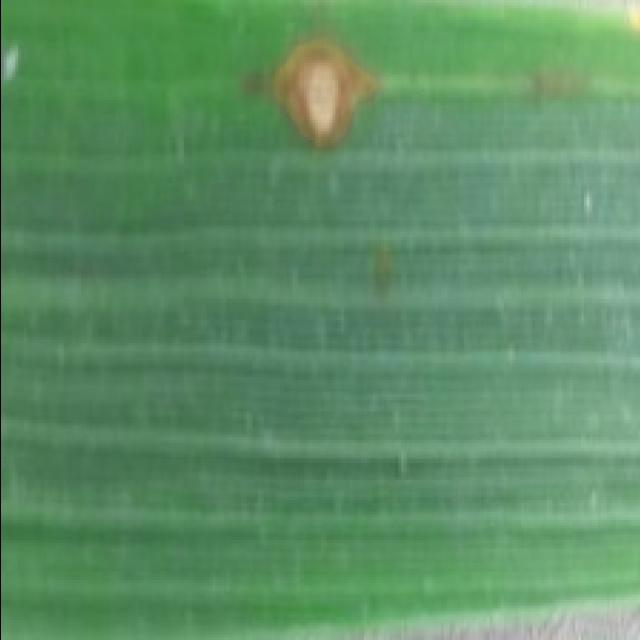Unhealthy: (237, 33, 381, 156), (526, 72, 584, 104), (369, 242, 393, 300)
